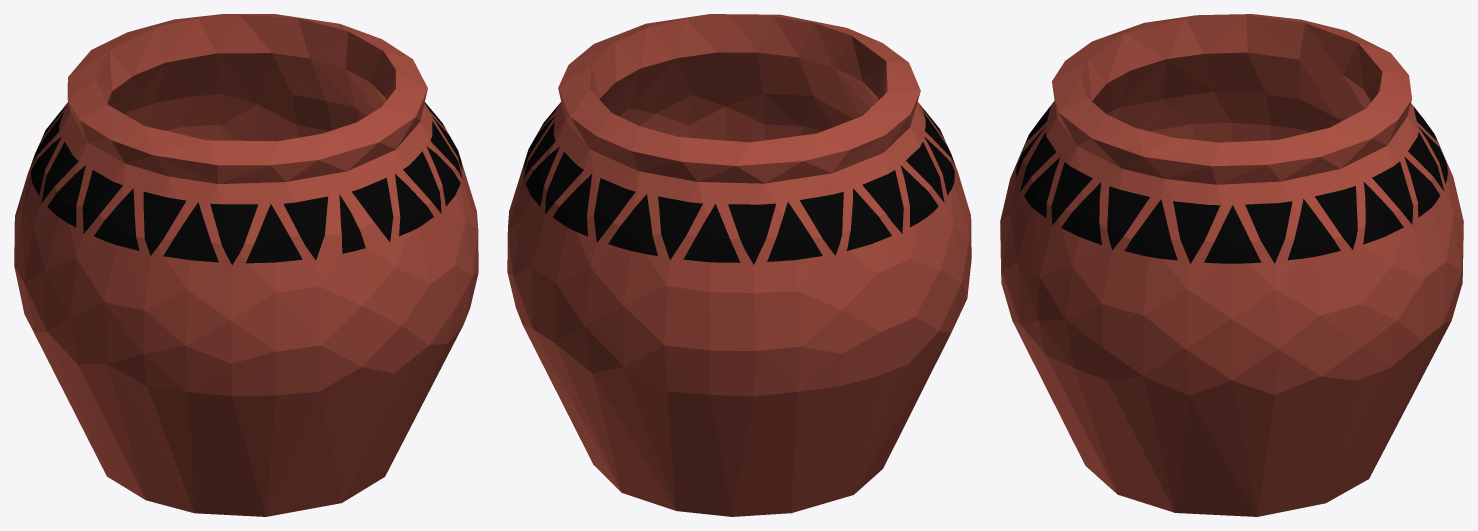
The model's file is Pottery 18_1.fbx.
3 renders of one model, left to right at view 1: azimuth 30°, elevation 25°; view 2: azimuth 150°, elevation 25°; view 3: azimuth 270°, elevation 25°, orthographic.
Visible parts, largest first — view 1: Pottery 18_1; view 2: Pottery 18_1; view 3: Pottery 18_1.
Part boxes in pixels (x1,y1,x2,y2): Pottery 18_1: (14, 14, 478, 516); Pottery 18_1: (507, 14, 971, 516); Pottery 18_1: (1000, 14, 1463, 516).
Bounding box in the file's own units: 71.99 × 64.48 × 71.99.
